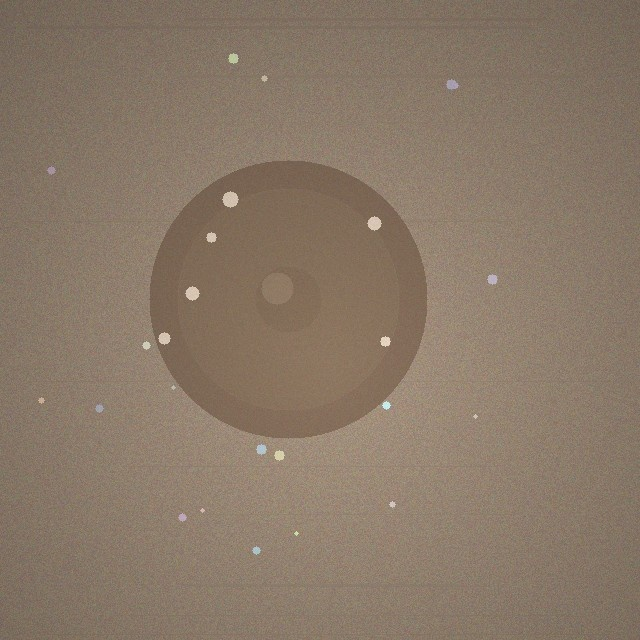overburn: (149, 160, 427, 438)
